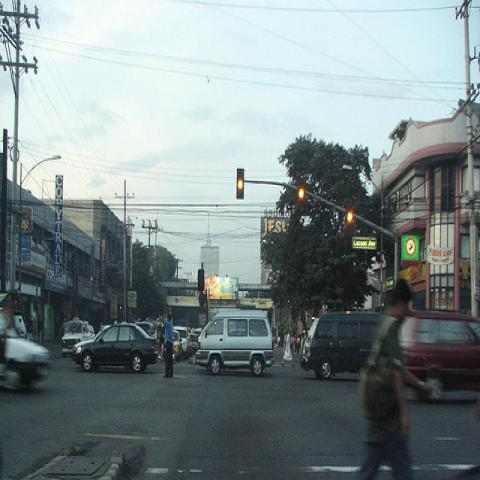car: (395, 310, 479, 401), (195, 314, 276, 376), (73, 324, 159, 372), (0, 309, 51, 383), (172, 327, 190, 359), (173, 332, 183, 362), (191, 334, 197, 354)
truck: (62, 320, 91, 357)
